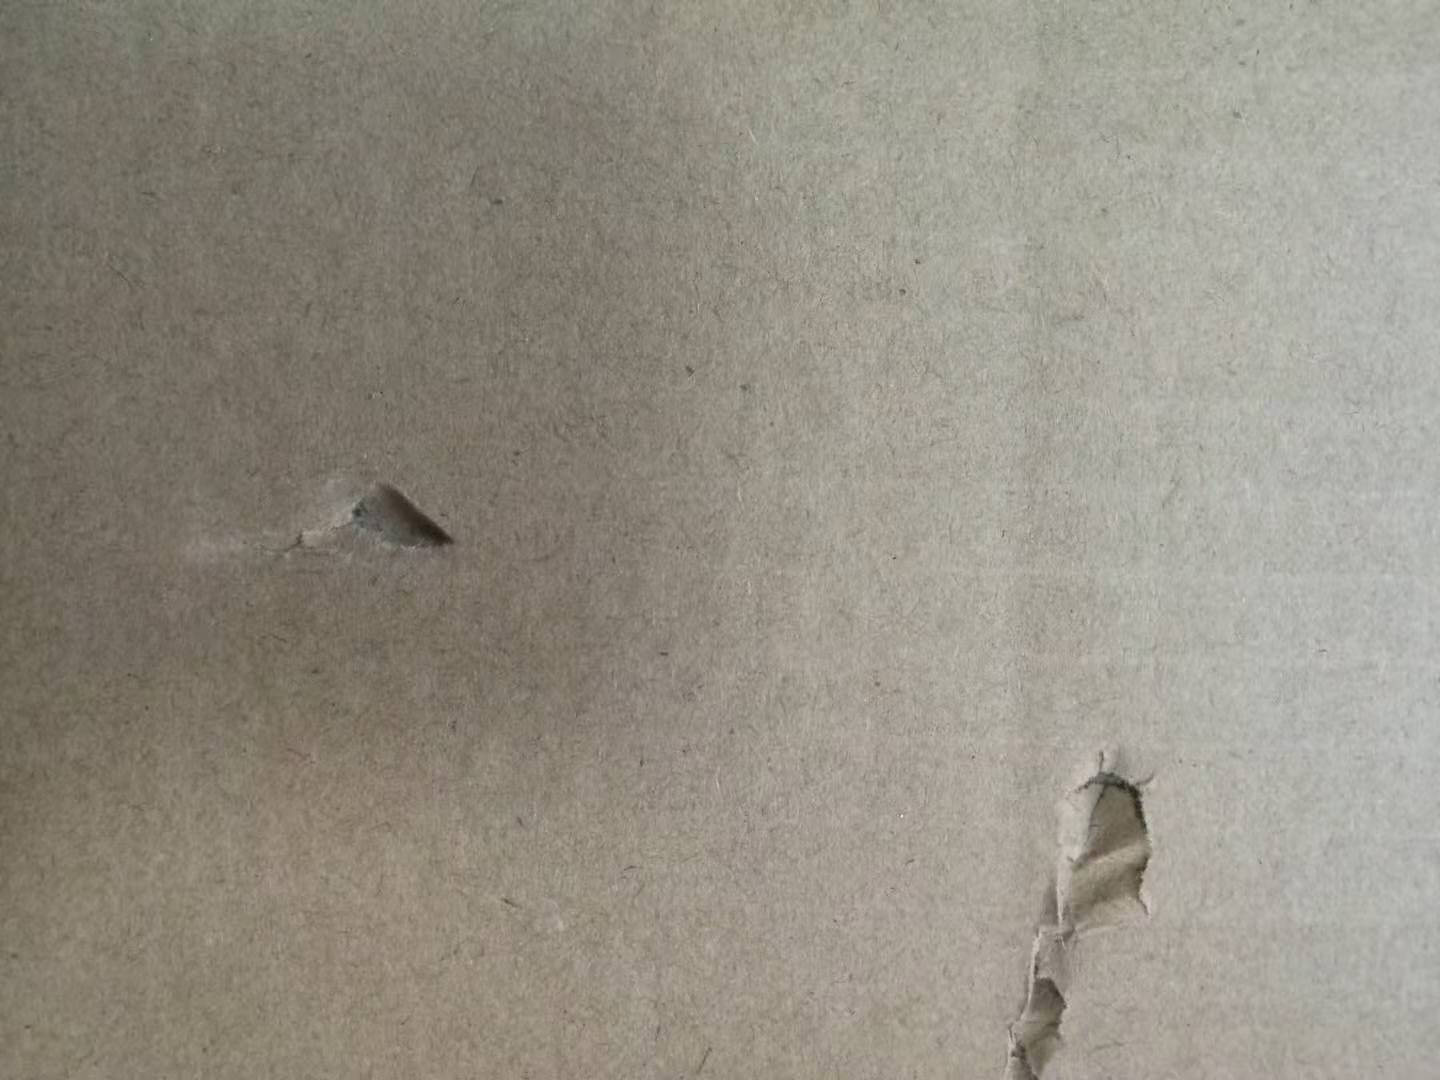defect: (982, 739, 1180, 1080), (162, 442, 486, 600)
